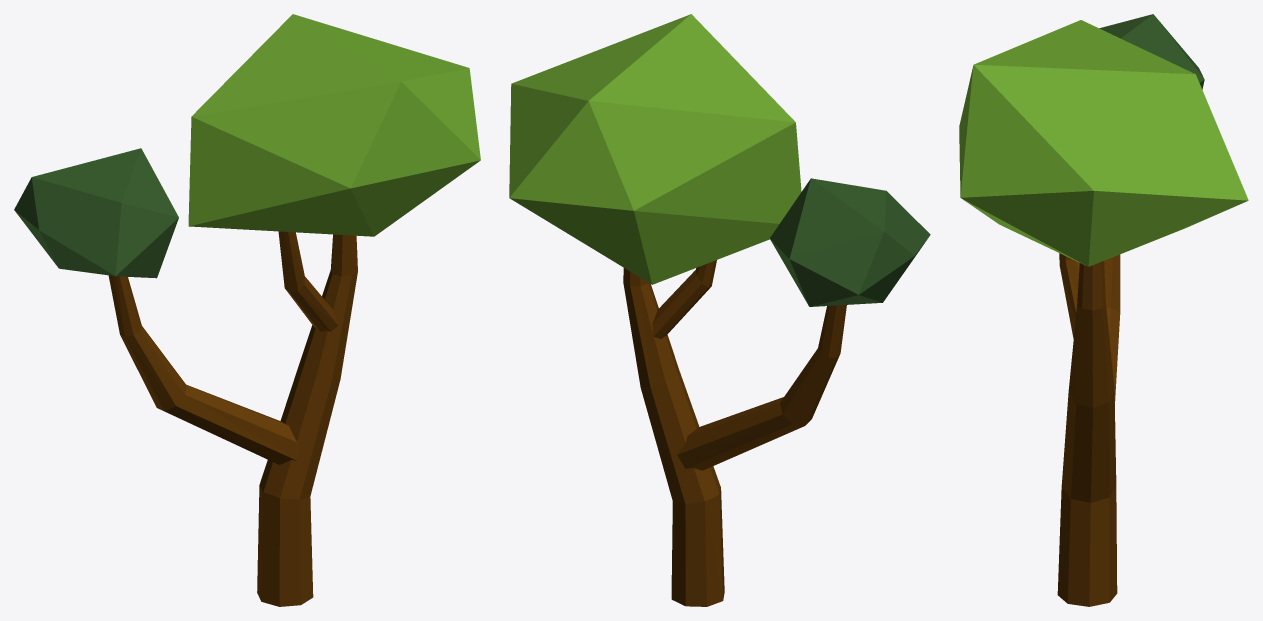
The model's file is Tree16.fbx.
The picture shows the model from 3 angles, left to right: view 1: azimuth 30°, elevation 25°; view 2: azimuth 150°, elevation 25°; view 3: azimuth 270°, elevation 25°; orthographic projection. The views are drawn at different scales.
Visible parts, largest first — view 1: Plane_346.006; view 2: Plane_346.006; view 3: Plane_346.006.
Part boxes in pixels (x1,y1,x2,y2): Plane_346.006: [14, 14, 480, 606]; Plane_346.006: [509, 14, 930, 606]; Plane_346.006: [959, 14, 1248, 606].
Bounding box in the file's own units: 262 × 321 × 150.
